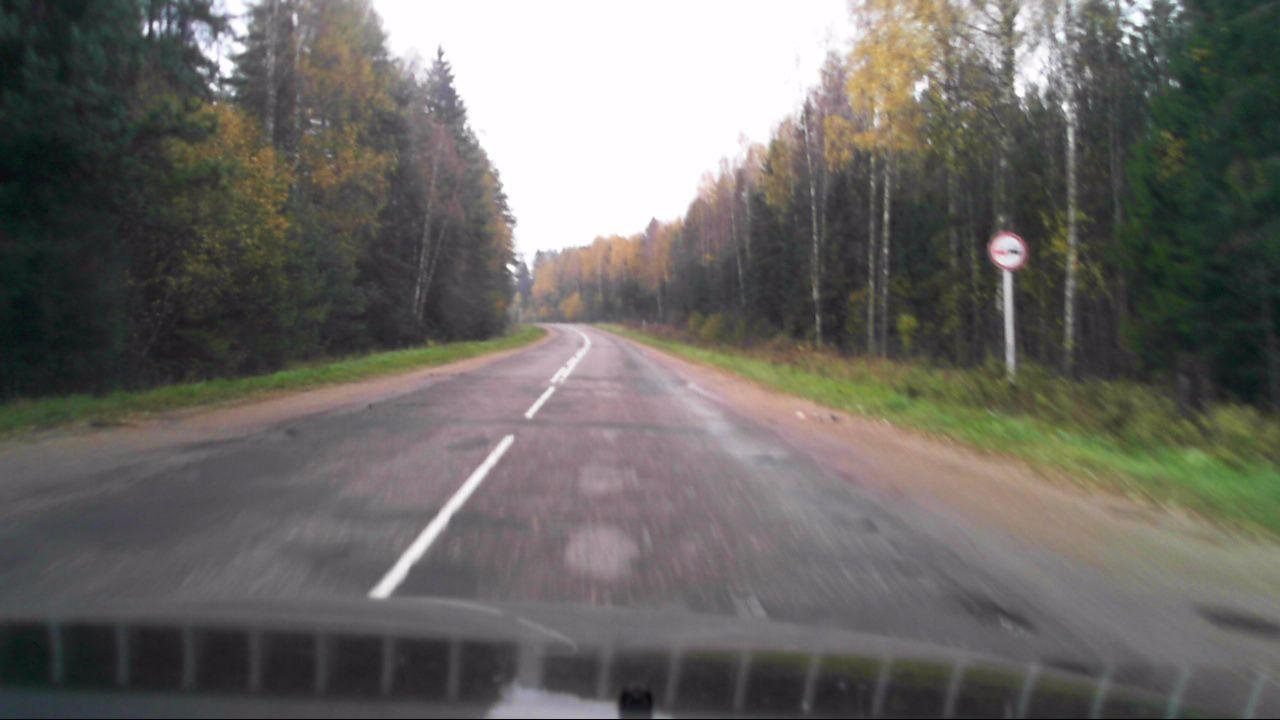road_sign: (988, 234, 1030, 269)
